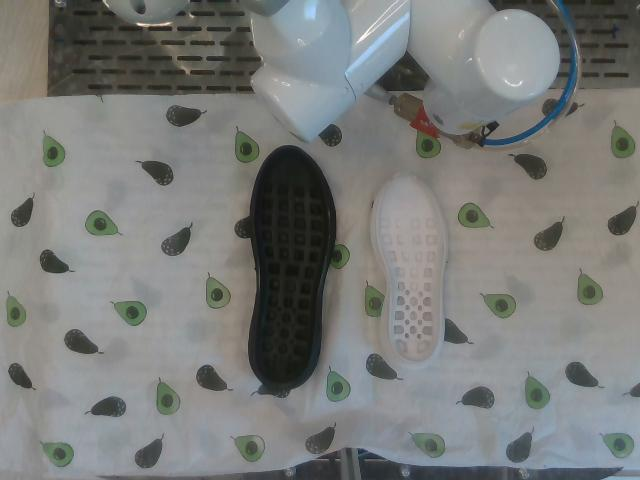shoes: (254, 148, 329, 382), (378, 172, 445, 362)
